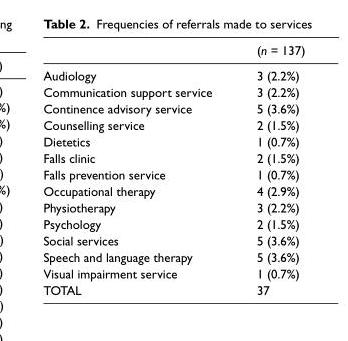table: (42, 42, 304, 297)
table column: (42, 42, 233, 297), (233, 42, 304, 297)
table column header: (42, 42, 304, 62)
table row: (42, 62, 304, 83), (42, 42, 304, 62), (42, 99, 304, 116), (42, 132, 304, 149), (42, 165, 304, 182), (42, 198, 304, 215), (42, 231, 304, 248), (42, 264, 304, 281), (42, 83, 304, 99), (42, 116, 304, 132), (42, 149, 304, 165), (42, 182, 304, 198), (42, 215, 304, 231), (42, 248, 304, 264), (42, 281, 304, 297)
